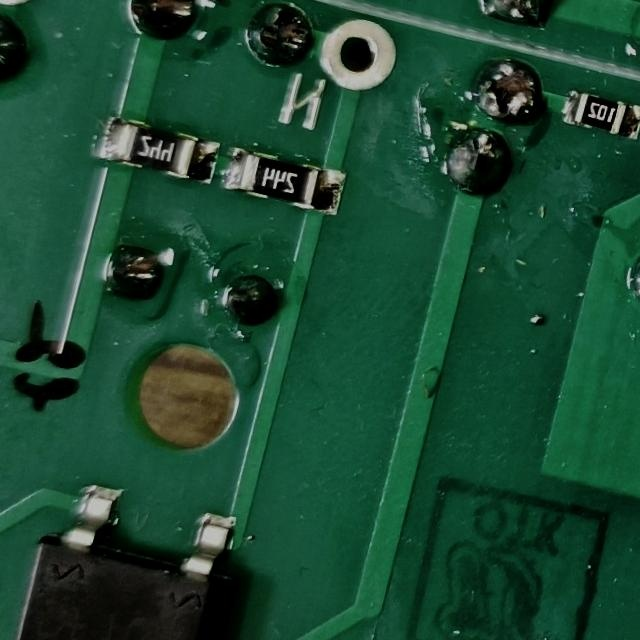chip-resistor: (217, 141, 351, 220), (93, 111, 223, 189), (555, 84, 640, 143)
ic: (0, 470, 254, 640)
